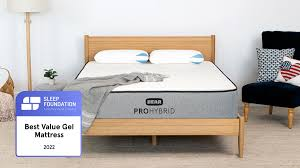bed-matress: (64, 59, 239, 121)
